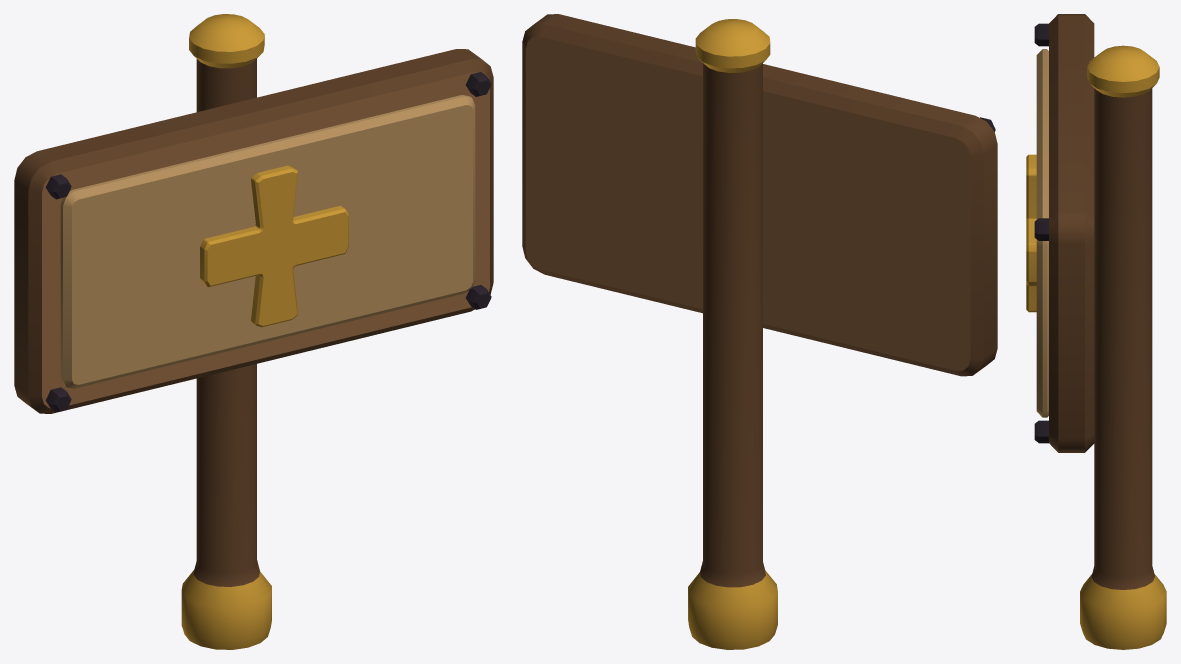
File: Sign_30.glb
The picture shows the model from 3 angles, left to right: view 1: azimuth 30°, elevation 25°; view 2: azimuth 150°, elevation 25°; view 3: azimuth 270°, elevation 25°; orthographic projection. The views are drawn at different scales.
Visible parts, largest first — view 1: Sign_30; view 2: Sign_30; view 3: Sign_30.
Boxes of the visible parts, x1,y1,x2,y2 form: Sign_30: (14, 14, 493, 649); Sign_30: (522, 14, 997, 649); Sign_30: (1026, 14, 1166, 649).
Bounding box in the file's own units: 2.47 × 3.1 × 0.68.
